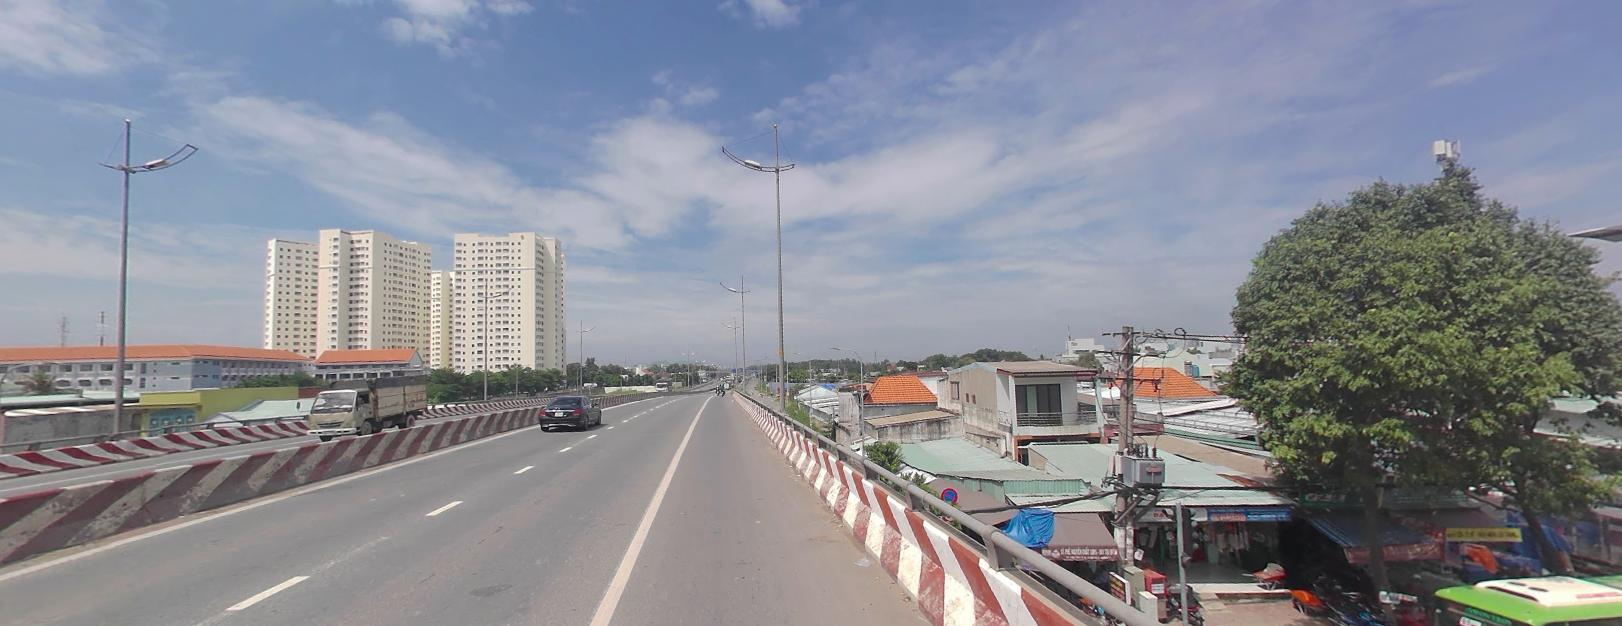Cam dung va do: (940, 487, 957, 505)
